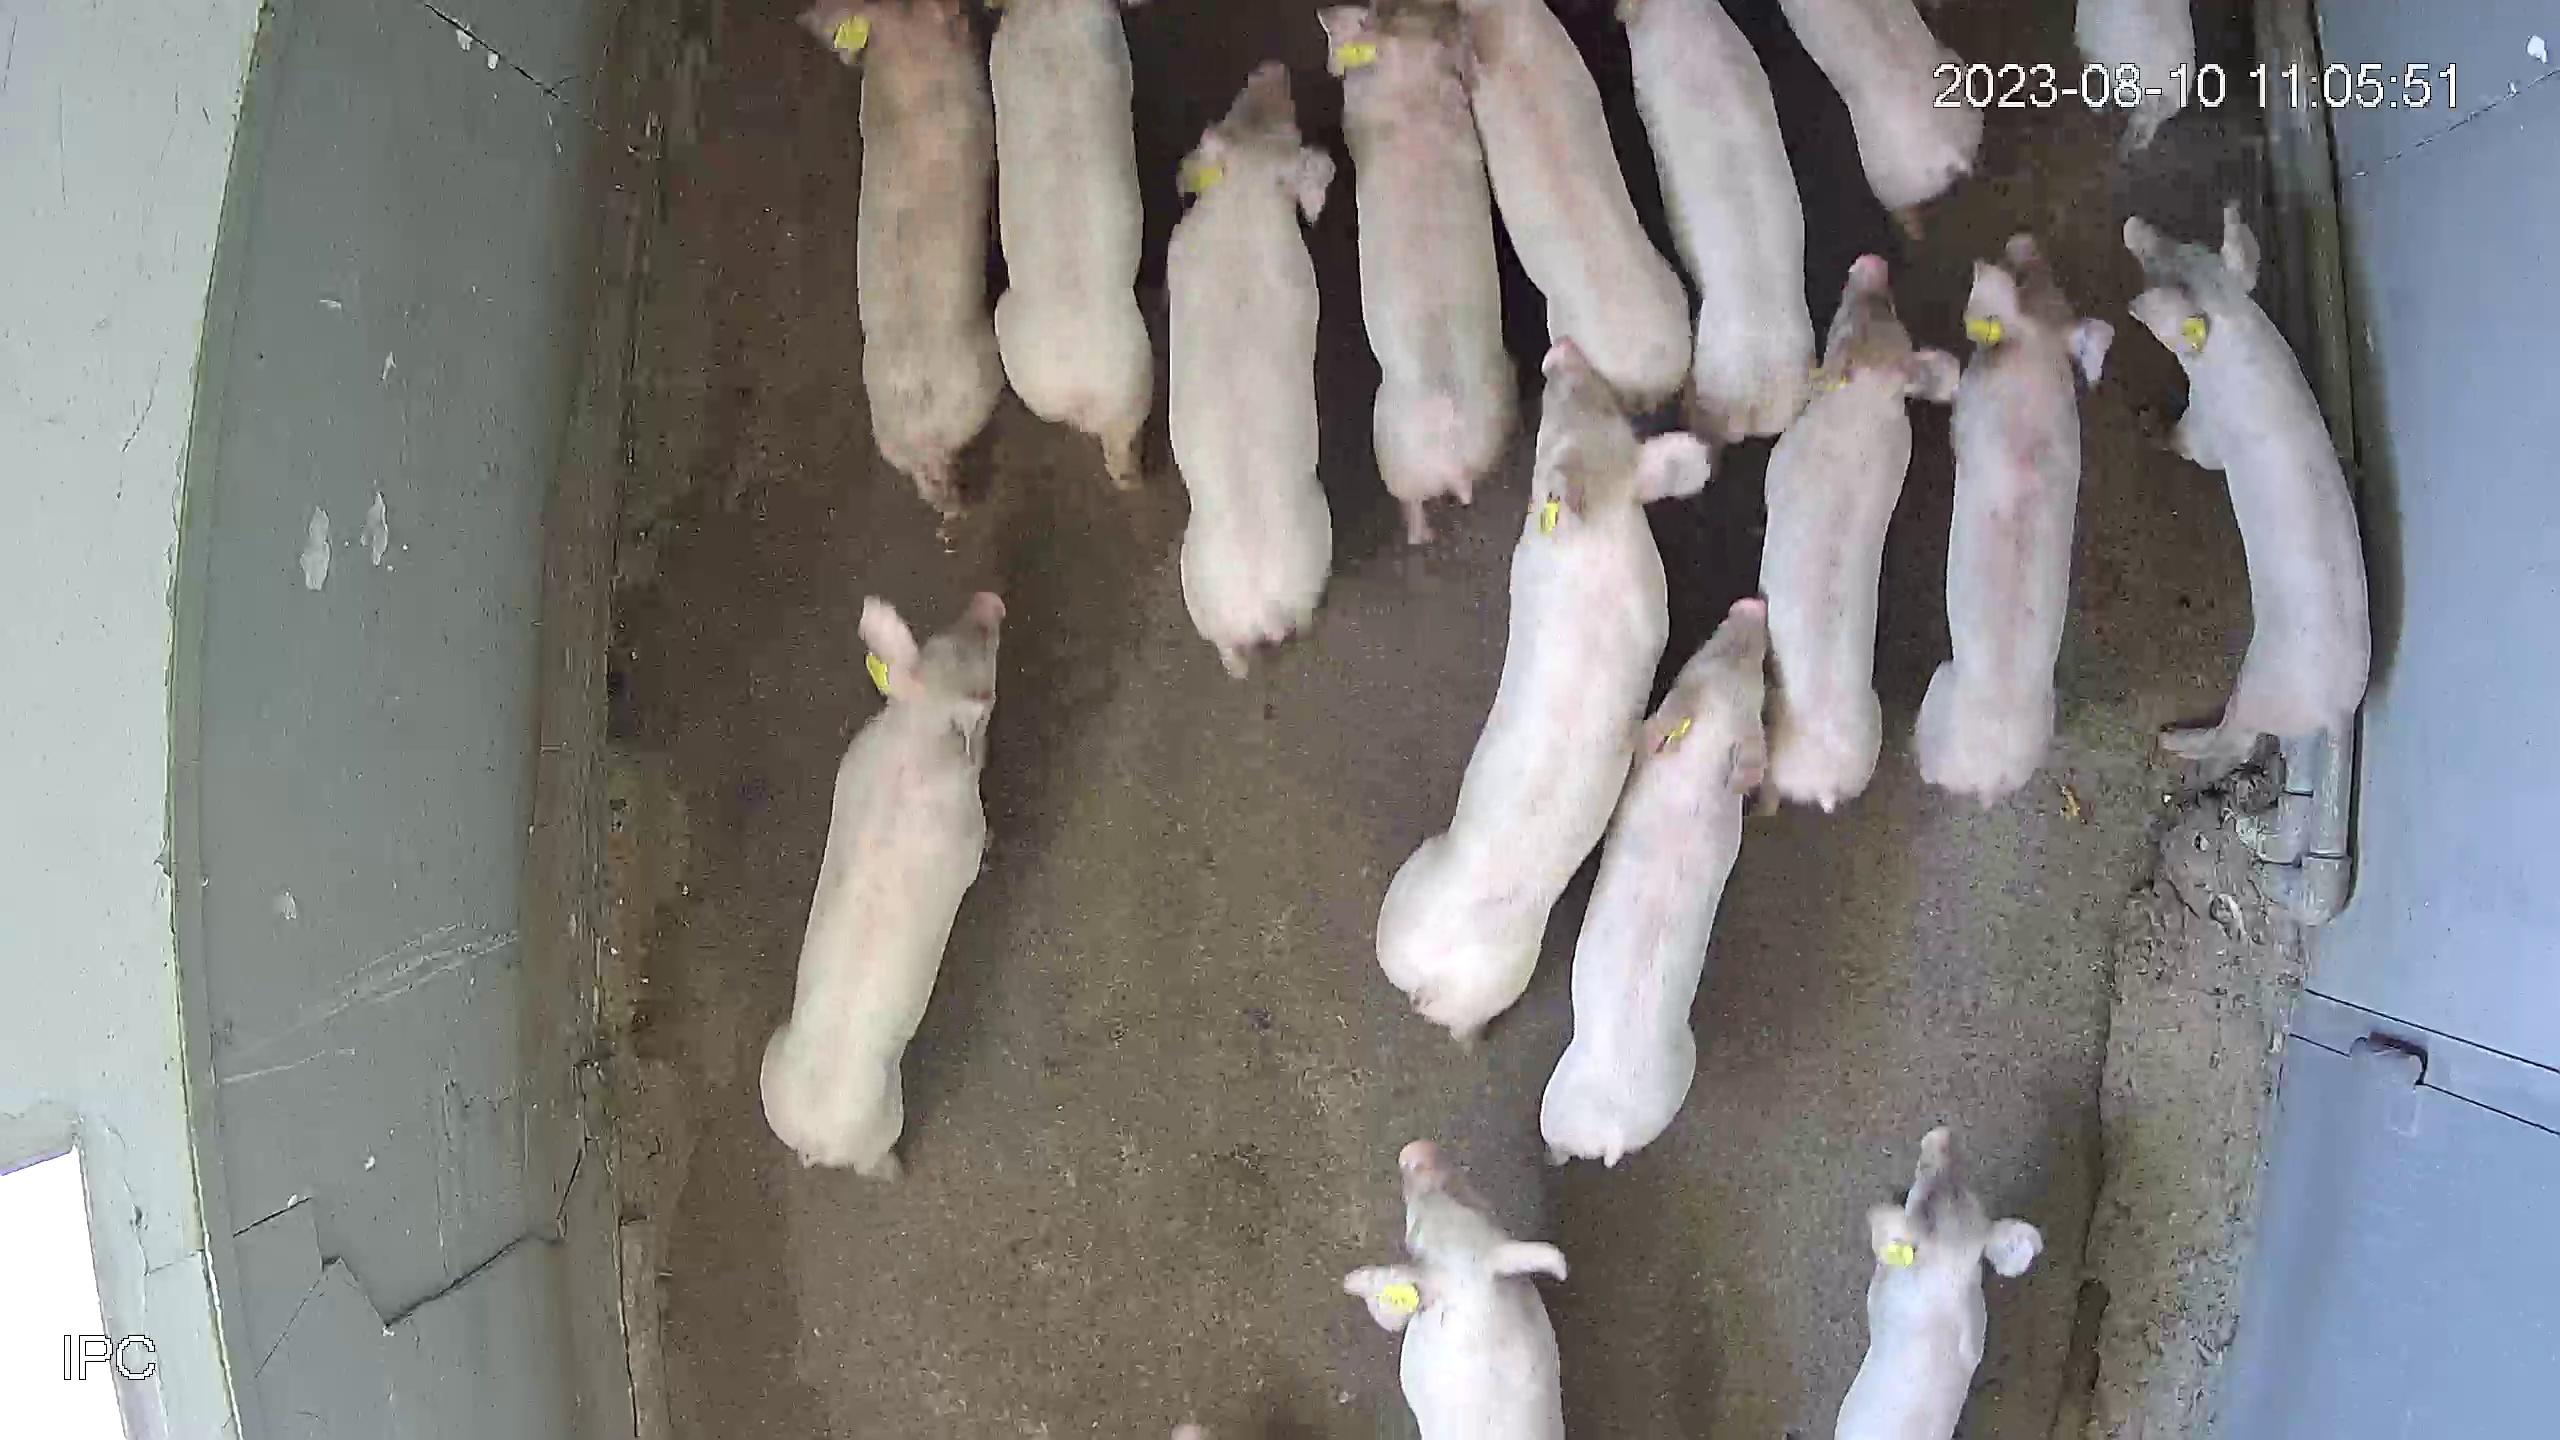Pig: (1378, 336, 1713, 1039), (760, 591, 1006, 1178), (2127, 199, 2375, 761), (1542, 598, 1769, 1164), (1918, 230, 2119, 805), (1762, 251, 1962, 811), (1320, 0, 1517, 543), (1167, 56, 1336, 675), (800, 0, 1002, 513), (1461, 0, 1693, 408), (1619, 0, 1818, 441), (988, 0, 1153, 485), (1345, 1141, 1567, 1440), (1837, 1125, 2047, 1440), (1783, 0, 1985, 211), (2080, 0, 2200, 153)
